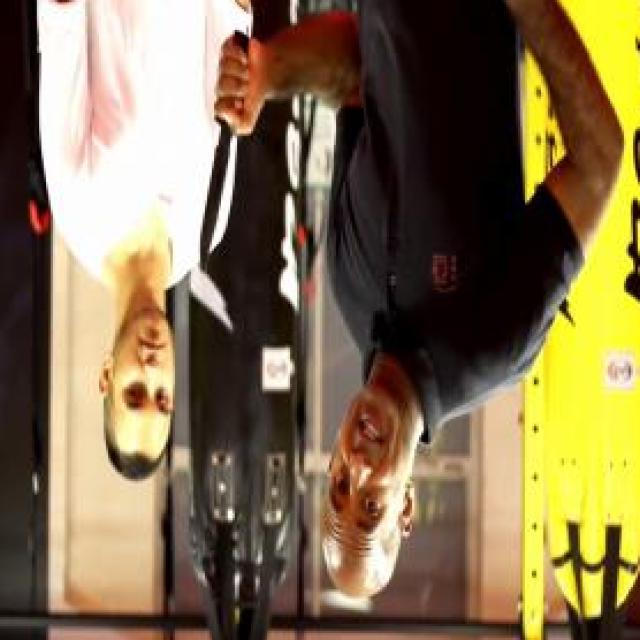knife: (191, 21, 254, 288)
